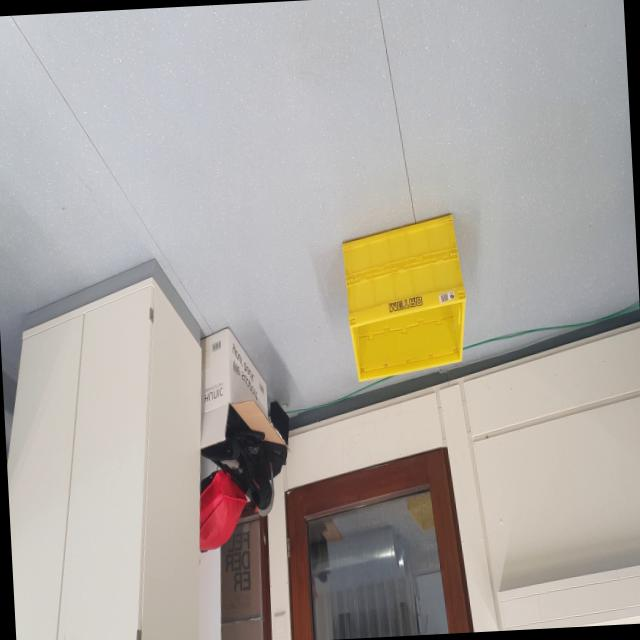box: (333, 197, 474, 396)
